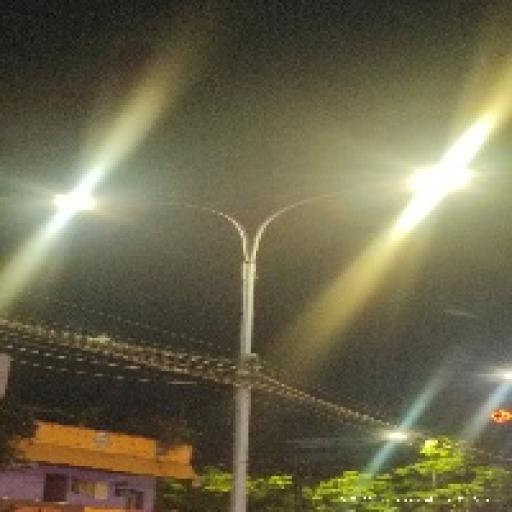Working: (392, 156, 486, 202), (46, 184, 106, 218)
